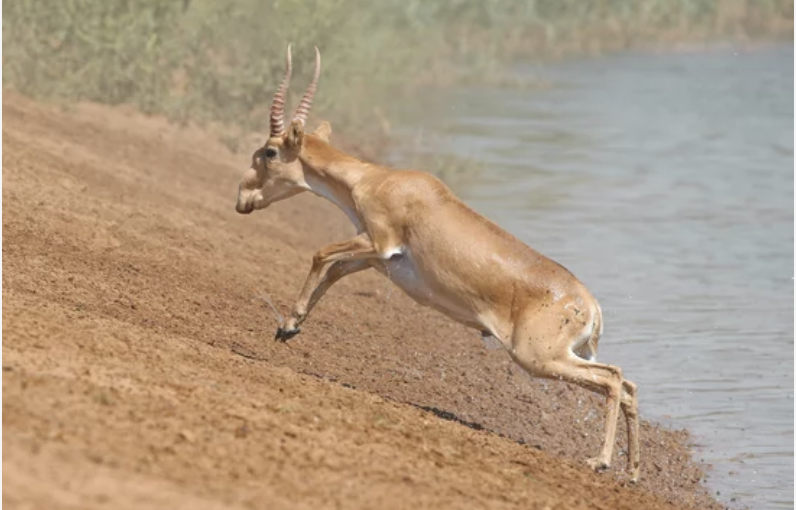saiga: (228, 42, 652, 498)
